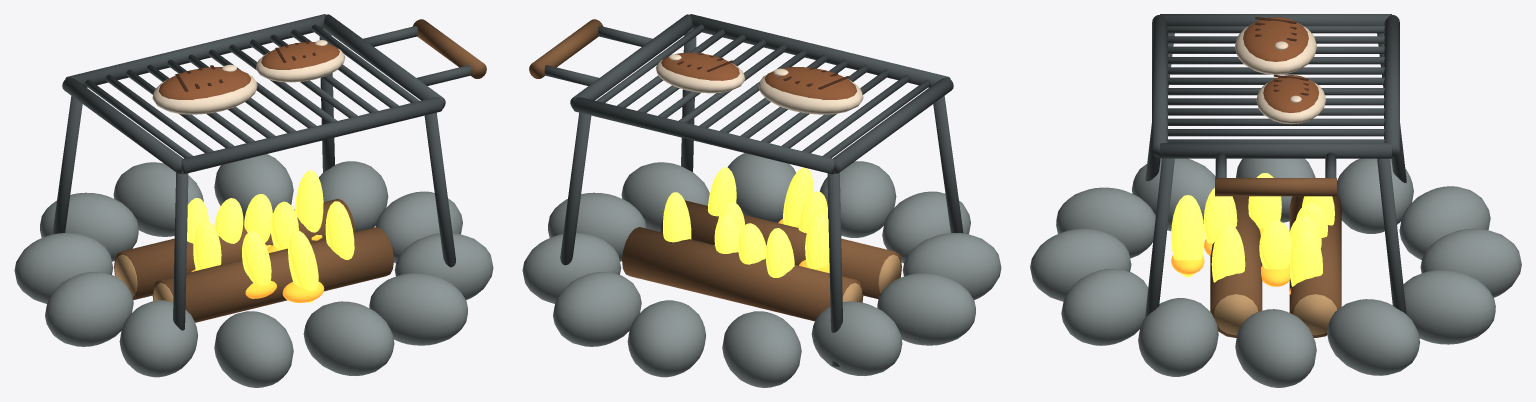
The model's file is cooking_fire.glb.
3 renders of one model, left to right at view 1: azimuth 30°, elevation 25°; view 2: azimuth 150°, elevation 25°; view 3: azimuth 270°, elevation 25°, orthographic. The views are drawn at different scales.
Visible parts, largest first — view 1: Firewood, Hearth stone.010, Hearth stone.009, Hearth stone.006, Hearth stone.008, Hearth stone.007, Hearth stone.005, Grill frame.002, Hearth stone.003, Hearth stone.011, Hearth stone.004, Grill frame.003 (+40 smaller); view 2: Firewood.001, Hearth stone.006, Hearth stone.002, Hearth stone.005, Hearth stone.004, Hearth stone.003, Grill frame.003, Hearth stone.007, Hearth stone.001, Firewood, Hearth stone.009, Grill frame.002 (+38 smaller); view 3: Hearth stone.001, Hearth stone.002, Hearth stone.010, Hearth stone, Hearth stone.011, Hearth stone.009, Hearth stone.003, Hearth stone.008, Hearth stone.004, Hearth stone.005, Grill frame.001, Firewood (+40 smaller).
Part boxes in pixels (left/top/right/bottom): Firewood: left=152, top=227, right=393, bottom=322; Hearth stone.010: left=369, top=273, right=467, bottom=345; Hearth stone.009: left=303, top=301, right=394, bottom=375; Hearth stone.006: left=45, top=272, right=133, bottom=346; Hearth stone.008: left=214, top=311, right=293, bottom=387; Hearth stone.007: left=119, top=300, right=197, bottom=377; Hearth stone.005: left=14, top=233, right=113, bottom=303; Grill frame.002: left=181, top=97, right=442, bottom=174; Hearth stone.003: left=113, top=162, right=203, bottom=236; Hearth stone.011: left=394, top=233, right=493, bottom=299; Hearth stone.004: left=40, top=192, right=138, bottom=261; Grill frame.003: left=65, top=14, right=325, bottom=87; Firewood.001: left=622, top=227, right=863, bottom=321; Hearth stone.006: left=877, top=273, right=975, bottom=345; Hearth stone.002: left=553, top=272, right=641, bottom=346; Hearth stone.005: left=811, top=301, right=902, bottom=375; Hearth stone.004: left=722, top=311, right=801, bottom=387; Hearth stone.003: left=627, top=300, right=705, bottom=377; Grill frame.003: left=573, top=97, right=834, bottom=174; Hearth stone.007: left=902, top=233, right=1001, bottom=299; Hearth stone.001: left=522, top=233, right=621, bottom=303; Firewood: left=660, top=200, right=901, bottom=299; Hearth stone.009: left=820, top=161, right=896, bottom=237; Grill frame.002: left=690, top=14, right=950, bottom=87; Hearth stone.001: left=1327, top=299, right=1420, bottom=375; Hearth stone.002: left=1403, top=270, right=1495, bottom=344; Hearth stone.010: left=1061, top=268, right=1148, bottom=345; Hearth stone: left=1235, top=309, right=1316, bottom=387; Hearth stone.011: left=1138, top=298, right=1218, bottom=376; Hearth stone.009: left=1030, top=228, right=1131, bottom=301; Hearth stone.003: left=1420, top=228, right=1521, bottom=297; Hearth stone.008: left=1056, top=187, right=1155, bottom=258; Hearth stone.004: left=1399, top=186, right=1490, bottom=259; Hearth stone.005: left=1337, top=158, right=1413, bottom=233; Grill frame.001: left=1160, top=143, right=1391, bottom=158; Firewood: left=1210, top=196, right=1262, bottom=337.
Bounding box in the file's own units: 1.61 × 0.887 × 1.61.
